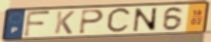6: (162, 6, 185, 31)
C: (105, 6, 133, 35)
F: (23, 10, 53, 38)
K: (54, 10, 77, 35)
N: (132, 7, 158, 33)
P: (78, 8, 106, 35)
